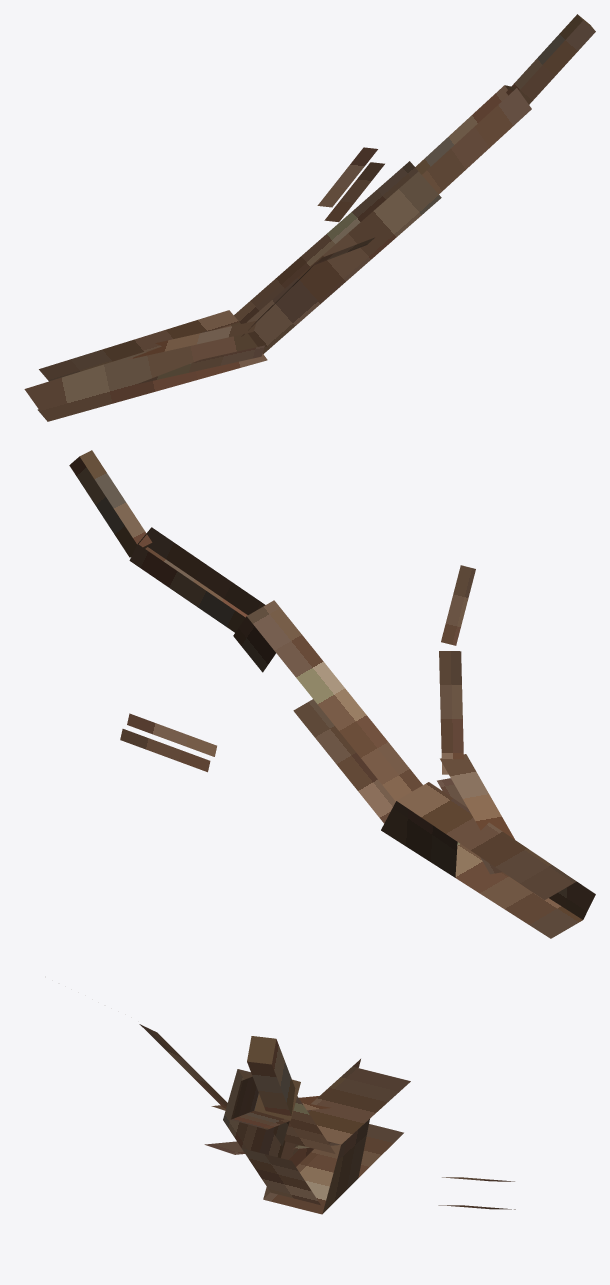
Rendered from pine_twig_branch_up_9.obj.
The picture shows the model from 3 angles, top to bottom: view 1: azimuth 30°, elevation 25°; view 2: azimuth 150°, elevation 25°; view 3: azimuth 270°, elevation 25°; orthographic projection. The views are drawn at different scales.
Visible parts, largest first — view 1: cube; view 2: cube; view 3: cube.
Part boxes in pixels (bbox=[...]): cube: bbox=[24, 14, 595, 421]; cube: bbox=[69, 450, 595, 938]; cube: bbox=[139, 1024, 515, 1214].
Size of the model in its own units: 2.29 by 1.26 by 1.51.
